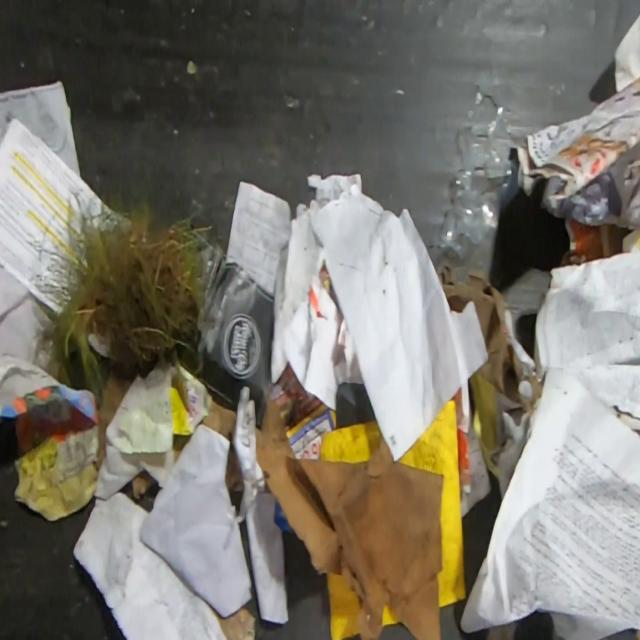cardboard: (435, 255, 542, 415), (397, 396, 469, 607), (502, 266, 552, 375), (98, 367, 132, 470), (324, 567, 364, 640), (320, 419, 380, 462), (200, 397, 236, 442), (216, 604, 257, 640), (130, 470, 158, 500), (380, 602, 401, 628), (174, 434, 190, 457)
rigid_plastic: (426, 74, 522, 259)
